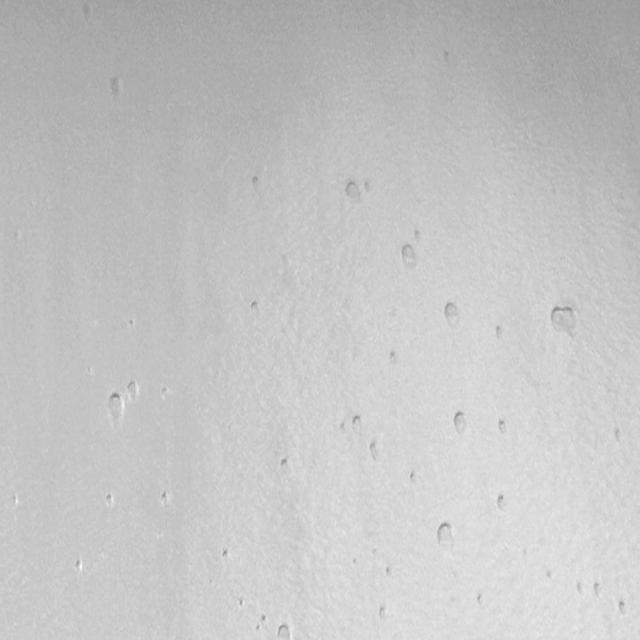pin holes: (547, 302, 586, 341), (440, 299, 464, 330), (433, 521, 457, 551), (106, 392, 127, 424), (396, 241, 419, 270), (343, 176, 365, 206), (106, 74, 126, 103), (76, 0, 98, 26), (451, 409, 471, 436), (366, 439, 386, 463), (126, 378, 142, 402), (610, 424, 627, 446), (8, 489, 24, 512), (273, 623, 294, 640), (494, 323, 509, 345), (616, 600, 631, 620), (496, 493, 510, 514), (250, 172, 266, 190), (247, 298, 262, 317), (497, 417, 512, 436), (388, 348, 403, 367), (591, 580, 605, 600), (574, 578, 588, 598), (258, 612, 272, 632), (376, 604, 391, 622), (278, 457, 292, 476), (159, 491, 173, 509), (103, 492, 115, 512), (407, 470, 421, 487), (350, 412, 363, 430), (412, 227, 425, 245), (336, 418, 349, 436), (475, 590, 488, 607), (72, 557, 84, 575), (544, 568, 556, 585), (220, 548, 232, 564), (160, 386, 172, 402), (383, 566, 395, 581), (236, 596, 247, 609), (126, 316, 136, 330)
